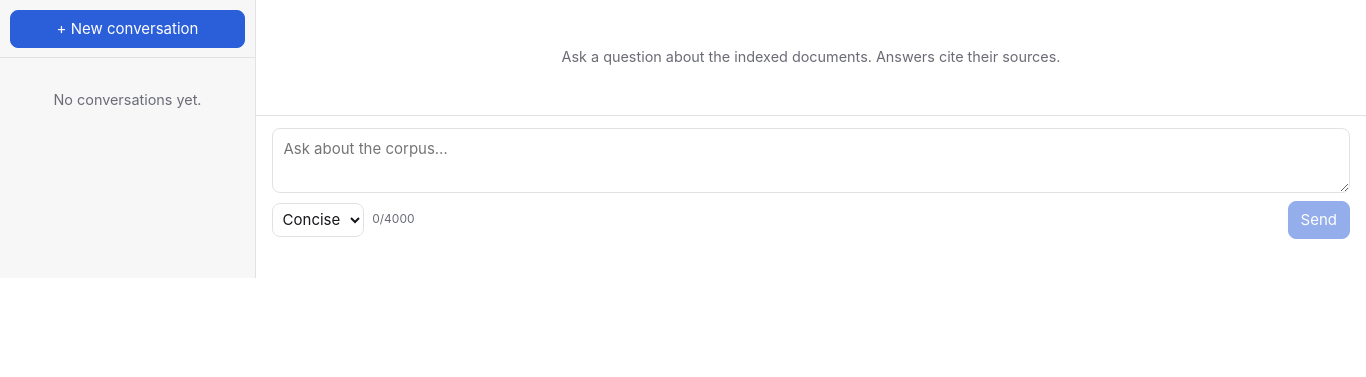
Test: ChatPage › sends a mid-stream error as an alert
In the text box named "Message": (811, 160) [272,128,1350,193], type "refund"
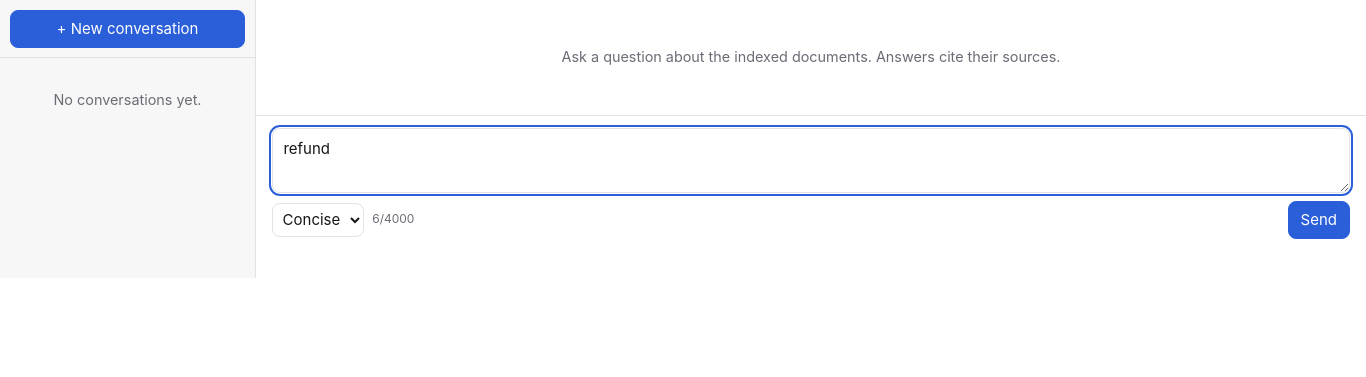
Click the button "Send": (1319, 220) [1288,201,1350,239]
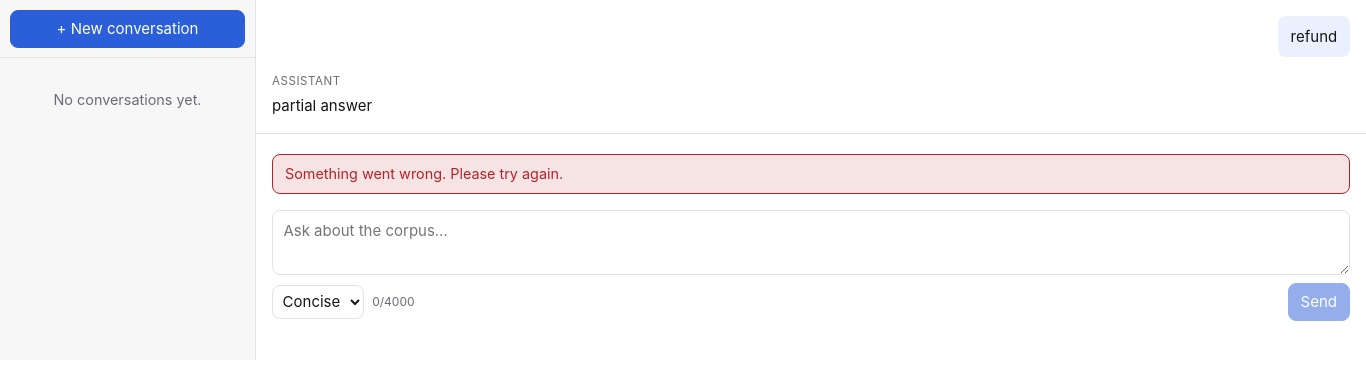
Result: the message shows "Something went wrong" at [285,165,563,182]
Result: the text "partial answer" is shown at [272,96,372,115]
